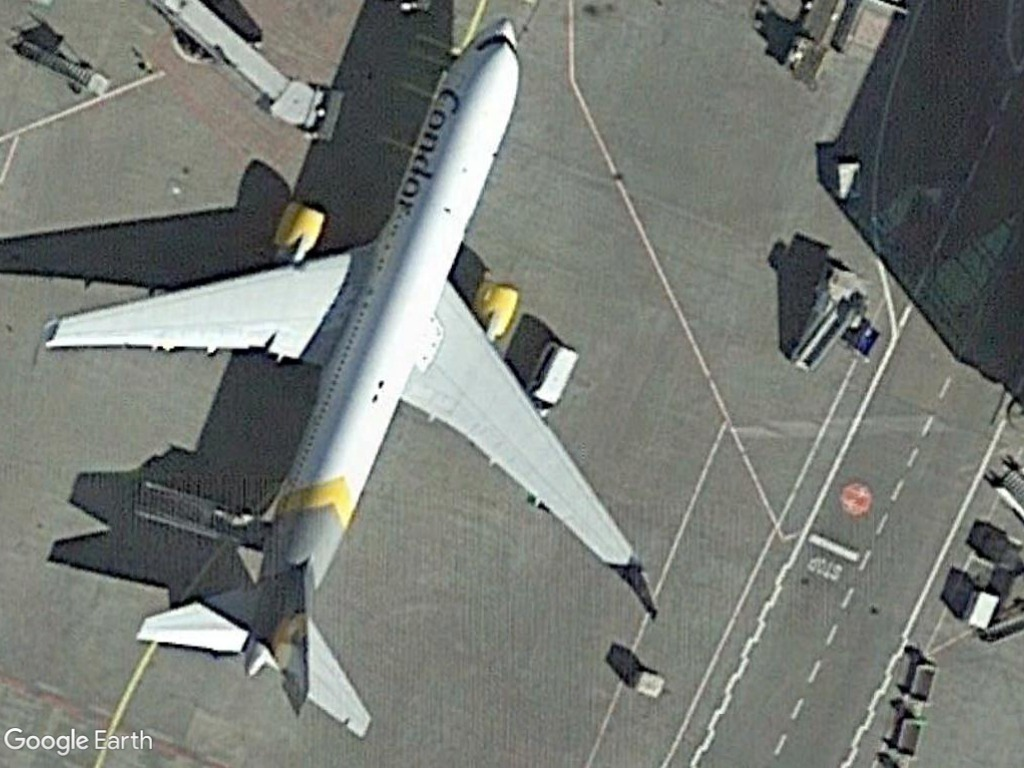airliner: (35, 0, 656, 740)
stairtruck: (787, 278, 870, 374)
